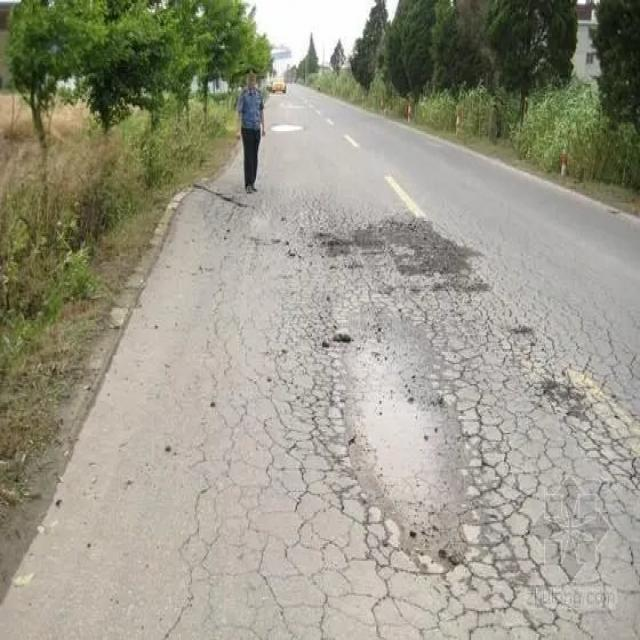Pothole: (327, 314, 490, 567), (338, 212, 487, 289), (540, 375, 598, 427), (268, 119, 300, 131)
